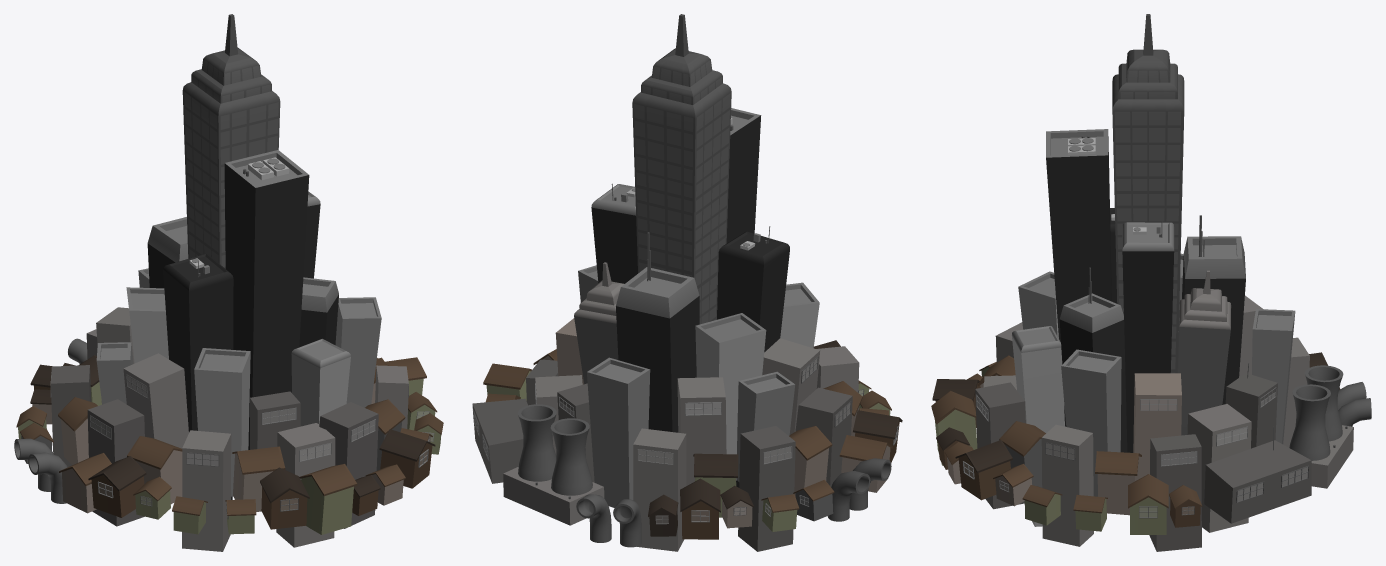
File: City-Buildings.fbx
3 renders of one model, left to right at view 1: azimuth 30°, elevation 25°; view 2: azimuth 150°, elevation 25°; view 3: azimuth 270°, elevation 25°, orthographic.
Parts seen in each view (by area): view 1: pCube388; view 2: pCube388; view 3: pCube388.
Part boxes in pixels (x1=…): pCube388: x1=14, y1=14, x2=443, y2=551; pCube388: x1=472, y1=14, x2=902, y2=551; pCube388: x1=931, y1=14, x2=1371, y2=551.
Size of the model in its own units: 3.82 by 4.65 by 3.76.
